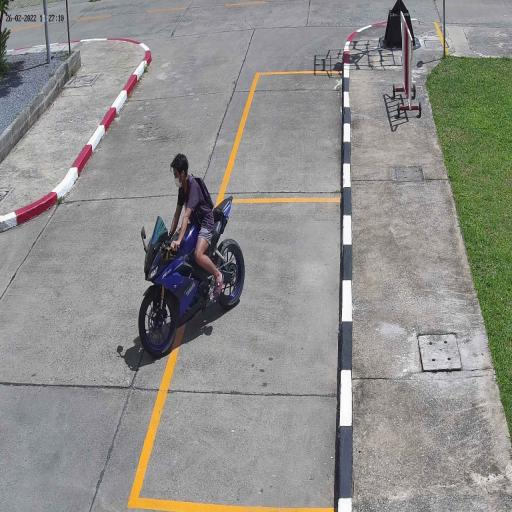motorcycle: (137, 214, 248, 363)
